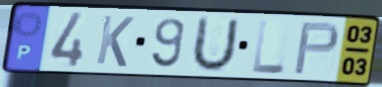4: (47, 9, 87, 70)
9: (150, 16, 187, 70)
K: (93, 13, 137, 69)
L: (250, 18, 288, 76)
P: (291, 20, 342, 76)
U: (187, 14, 242, 74)
